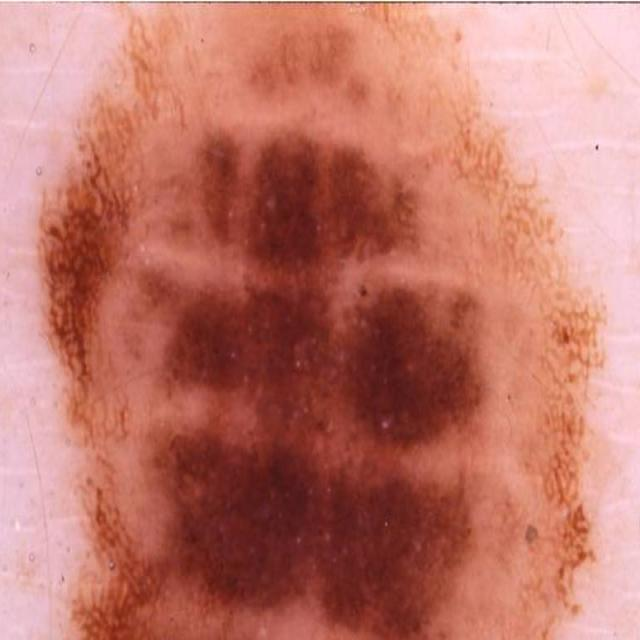Melanoma: (48, 30, 541, 640)
